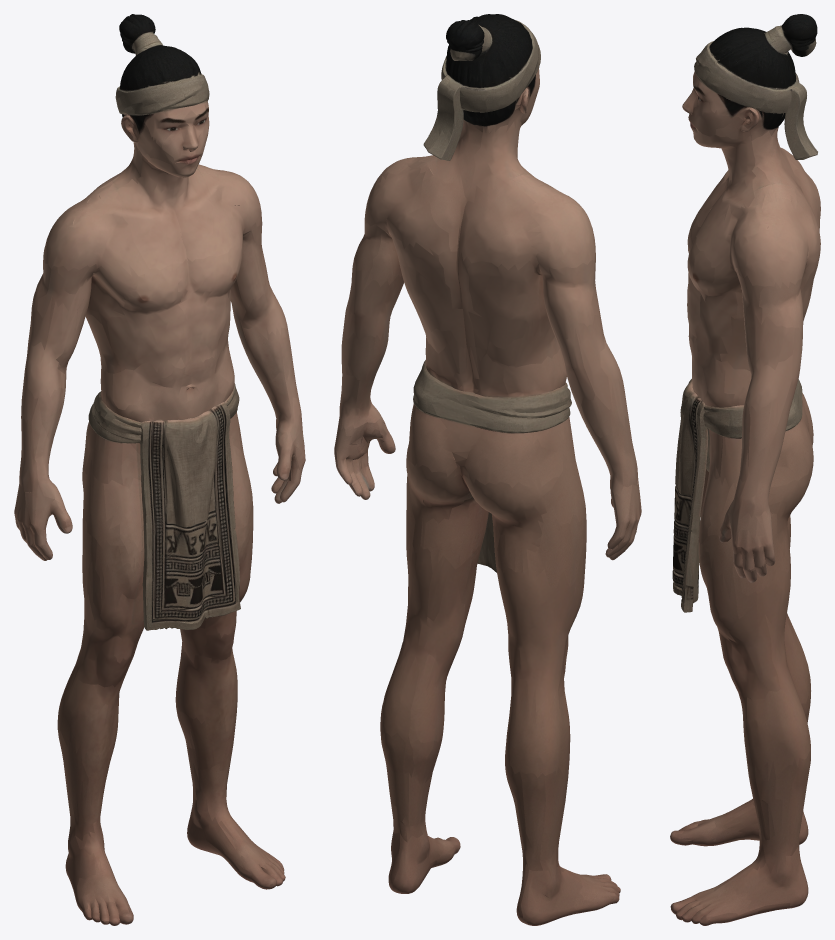
The model's file is Meshy_AI_Thanh_Giong_Optimized_1017040925_texture.glb.
The picture shows the model from 3 angles, left to right: view 1: azimuth 30°, elevation 25°; view 2: azimuth 150°, elevation 25°; view 3: azimuth 270°, elevation 25°; orthographic projection. The views are drawn at different scales.
Parts seen in each view (by area): view 1: output_unwrapped; view 2: output_unwrapped; view 3: output_unwrapped.
Boxes of the visible parts, bbox=[...] form: output_unwrapped: bbox=[14, 14, 305, 925]; output_unwrapped: bbox=[334, 14, 641, 925]; output_unwrapped: bbox=[670, 14, 820, 925].
Size of the model in its own units: 0.6624 by 1.9 by 0.3014.
Materials: 1 (1 with a texture image).
